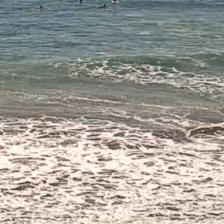surfer: (97, 4, 108, 9), (38, 5, 45, 11), (78, 0, 83, 6), (111, 0, 119, 3)
